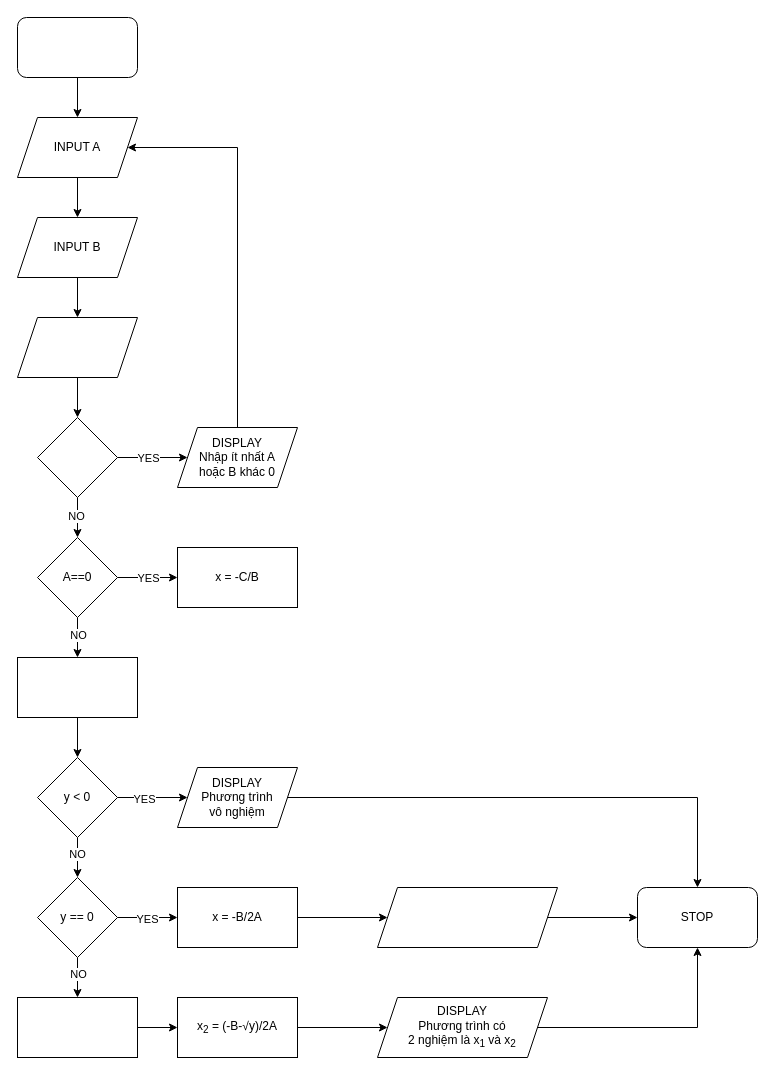
Some shapes in this 775 by 1075 pixel diagram are drawn without their labels. Each missing label, with the centre of its shape:
A==0 và B==0: the point at 77,457
DISPLAY Phương trình có 1 nghiệm là x: the point at 467,917
INPUT C: the point at 77,347
START: the point at 77,47
x 1 = (B-√y)/2A: the point at 77,1027
y = B 2 -4AC: the point at 77,687
